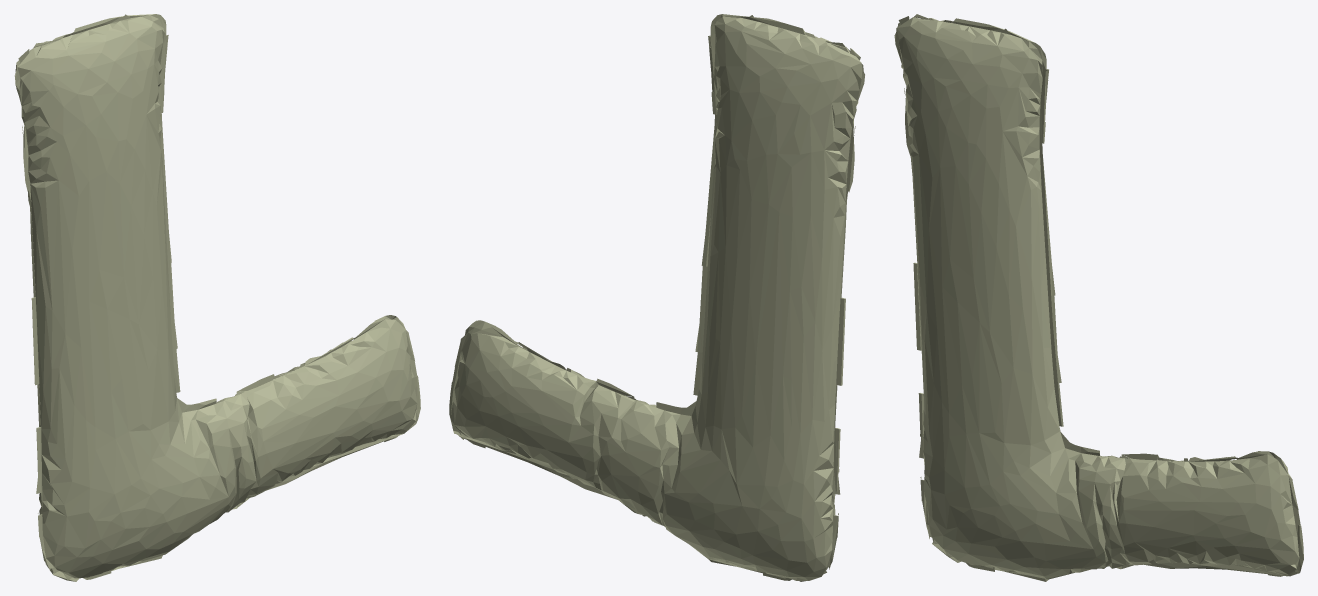
File: tinker.obj
The picture shows the model from 3 angles, left to right: view 1: azimuth 30°, elevation 25°; view 2: azimuth 150°, elevation 25°; view 3: azimuth 330°, elevation 25°; orthographic projection.
Parts seen in each view (by area): view 1: obj_0; view 2: obj_0; view 3: obj_0.
Part boxes in pixels (x1,y1,x2,y2): obj_0: (14,14,420,581); obj_0: (449,14,864,581); obj_0: (894,14,1303,581).
Size of the model in its own units: 12.23 by 15.82 by 1.8.
